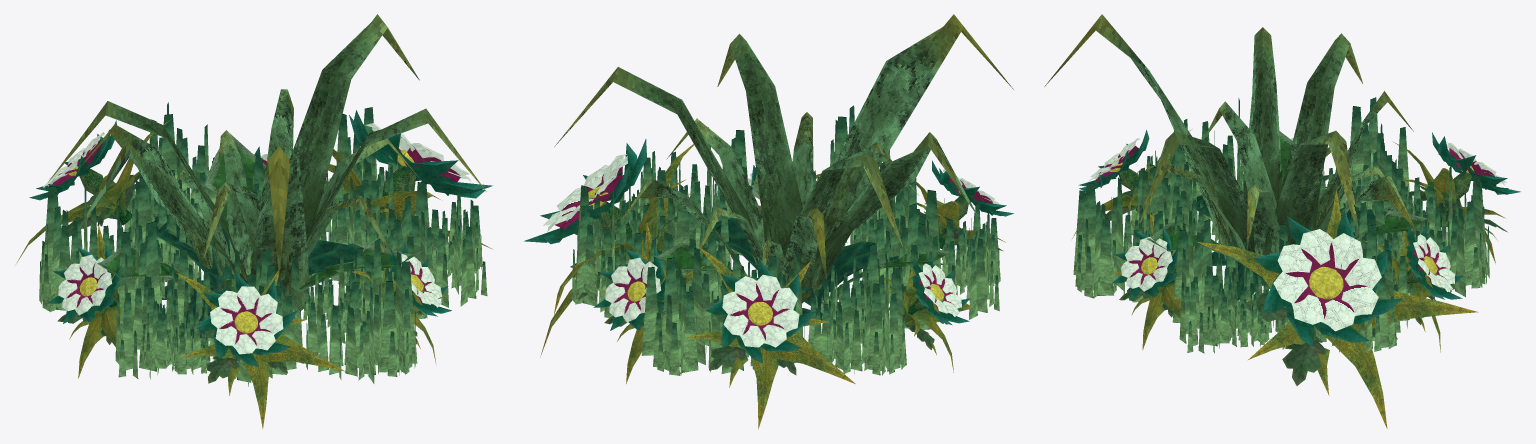
Rendered from prefab_12.glb.
3 views of the same model, side by side, from view 1: azimuth 30°, elevation 25°; view 2: azimuth 150°, elevation 25°; view 3: azimuth 270°, elevation 25° (orthographic). The views are drawn at different scales.
Visible parts, largest first — view 1: PRFB_12-no-col; view 2: PRFB_12-no-col; view 3: PRFB_12-no-col.
Part boxes in pixels (x1,y1,x2,y2): PRFB_12-no-col: [16, 14, 492, 428]; PRFB_12-no-col: [524, 14, 1013, 429]; PRFB_12-no-col: [1044, 14, 1520, 428].
Bounding box in the file's own units: 1.93 × 1.34 × 2.
Materials: 2 (2 with a texture image).
